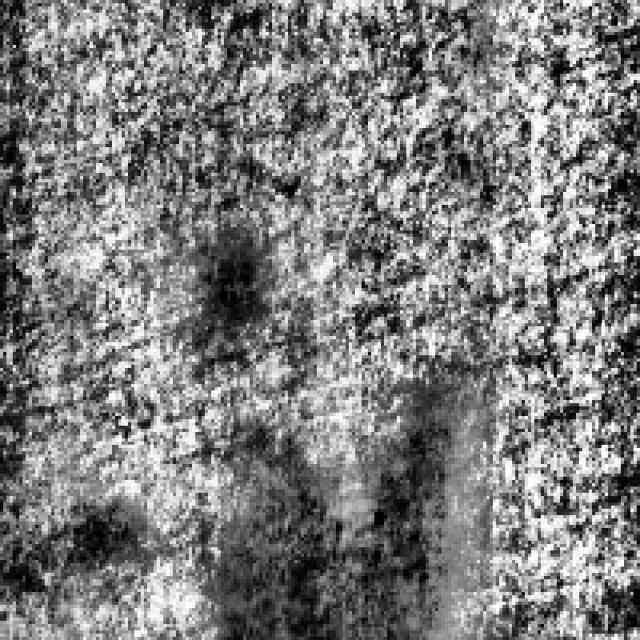Scratches: (211, 381, 458, 637), (179, 230, 259, 333), (70, 490, 141, 560)
